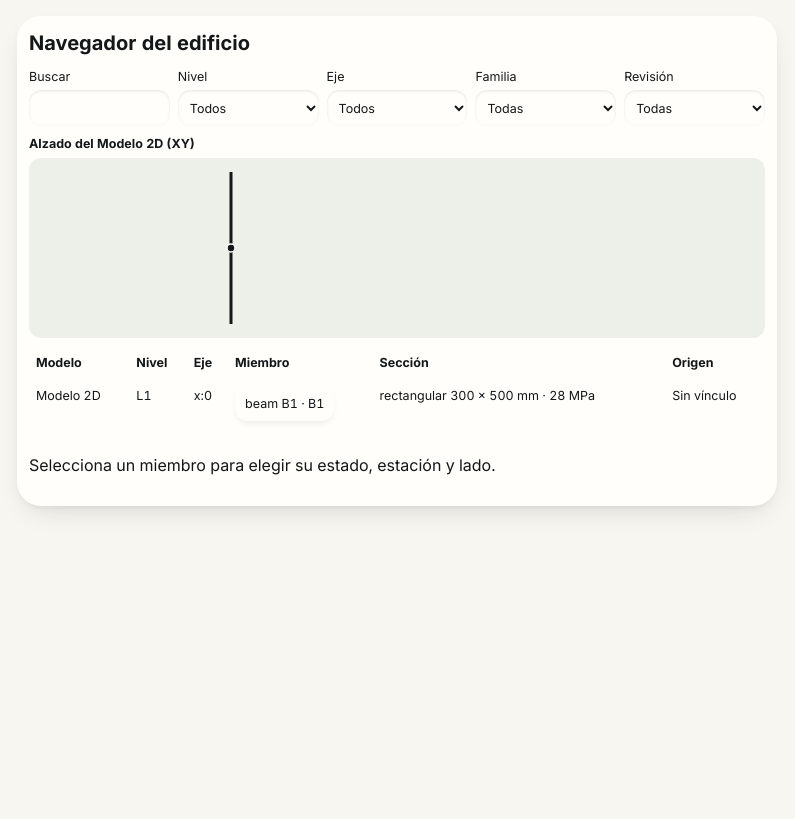
Test: oculta dimensiones uniformes cuando falla una propuesta de grupo y confirma que no se aplicó
Click the button with aria-label "Seleccionar beam B1" at (285, 404), box [235,386,334,422]
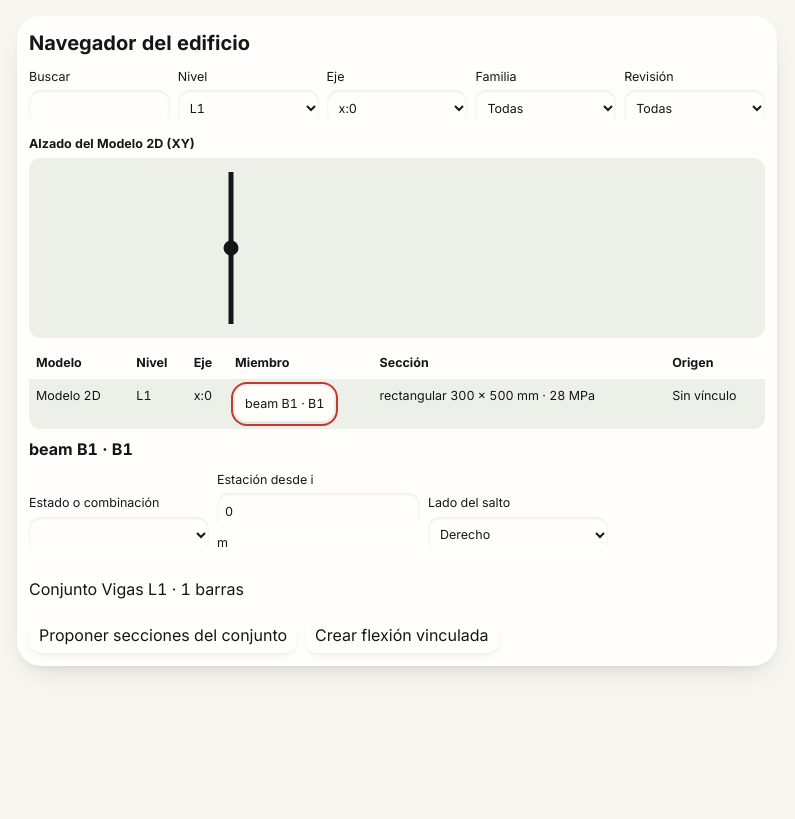
Click the button with test id "propose-linked-group" at (163, 636), box [29,618,297,654]
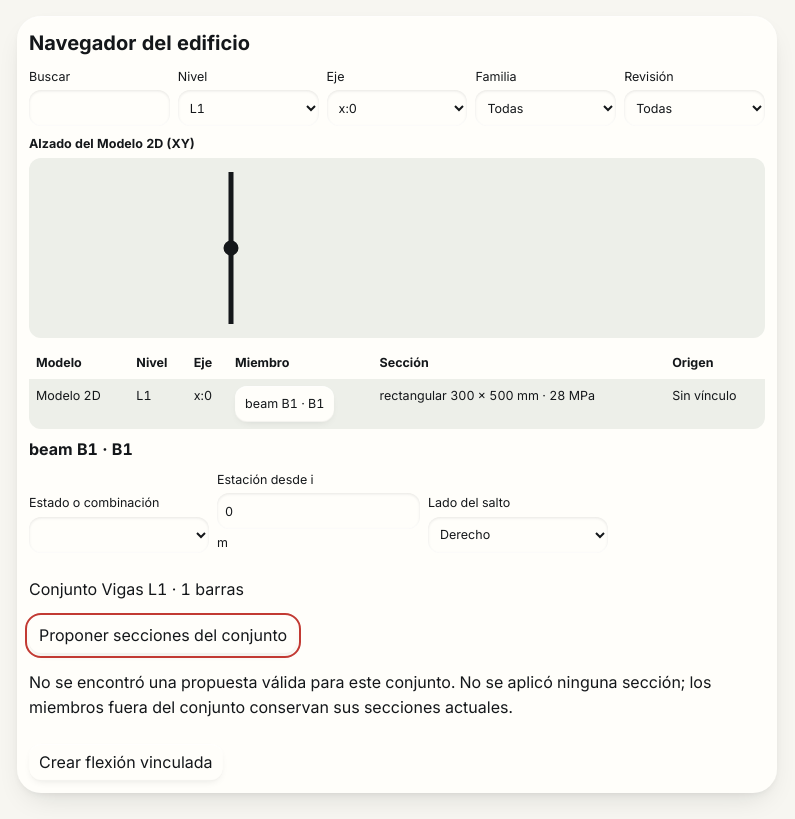
Result: the message shows "No se aplicó ninguna sección" at [29,672,711,717]
Result: the message shows "fuera del conjunto conservan sus secciones actuales" at [29,672,711,717]
